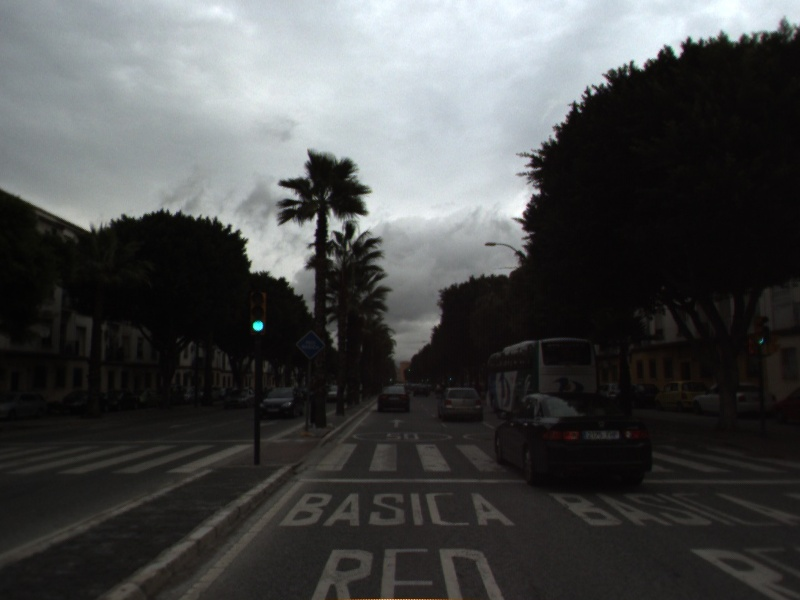STRAIGHT: (386, 417, 408, 430)
